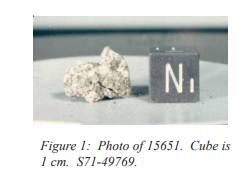Basalt: (63, 48, 134, 105)
